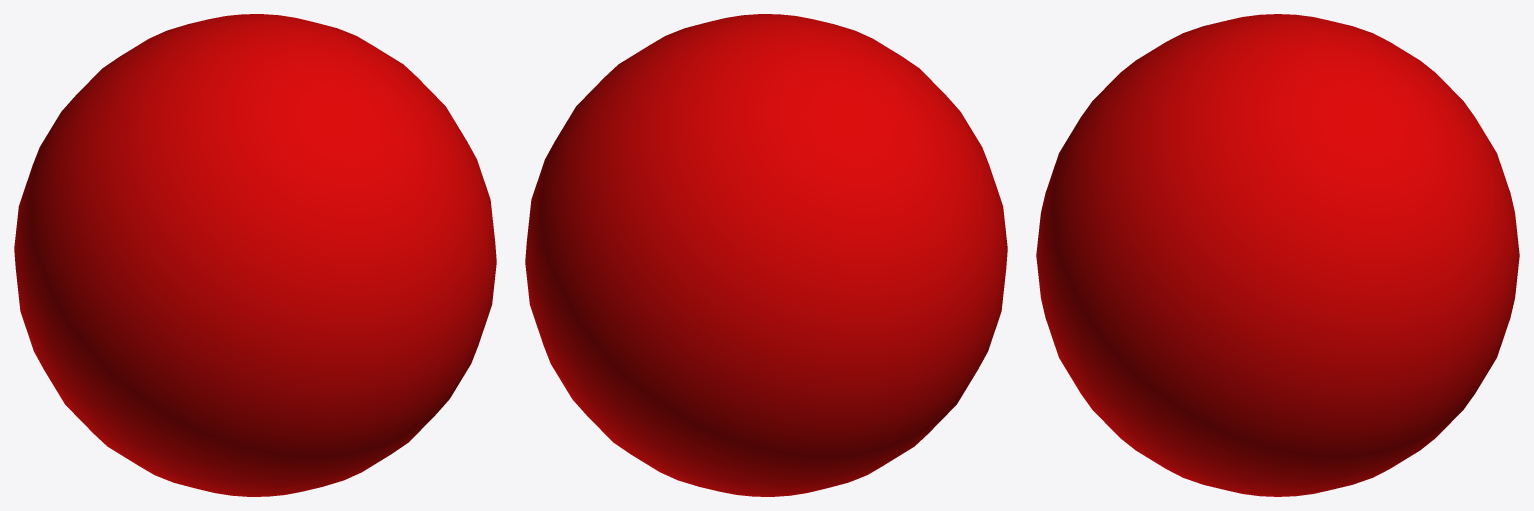
The model's file is FurLayer10.fbx.
3 views of the same model, side by side, from view 1: azimuth 30°, elevation 25°; view 2: azimuth 150°, elevation 25°; view 3: azimuth 270°, elevation 25° (orthographic).
Parts seen in each view (by area): view 1: FurShell; view 2: FurShell; view 3: FurShell.
Boxes of the visible parts, x1,y1,x2,y2 form: FurShell: (14,14,496,496); FurShell: (525,14,1007,496); FurShell: (1036,14,1519,496).
Bounding box in the file's own units: 1.11 × 1.11 × 1.11.
